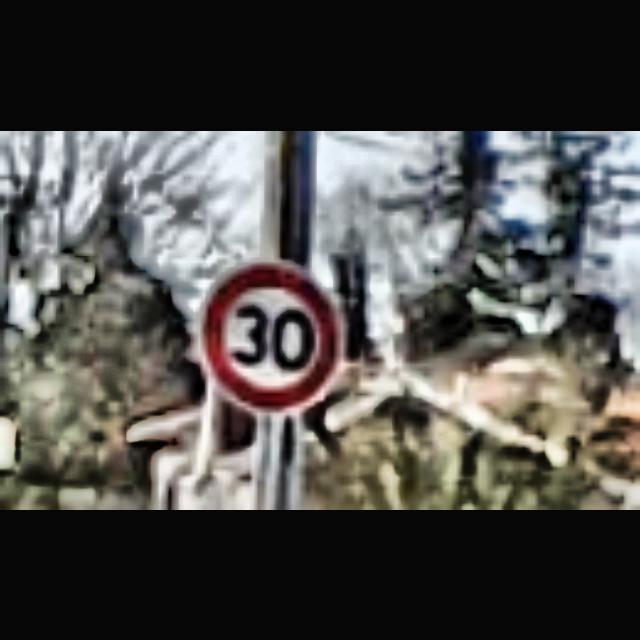speed_30: (198, 260, 348, 416)
